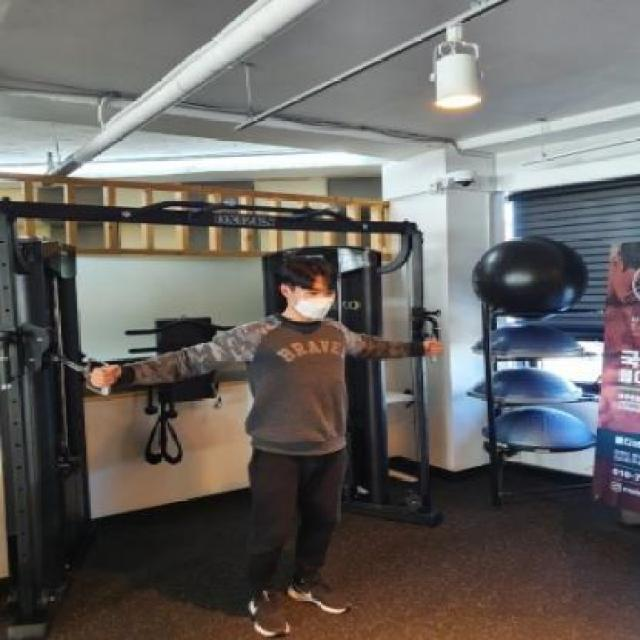chest fly machine: (0, 152, 488, 640)
